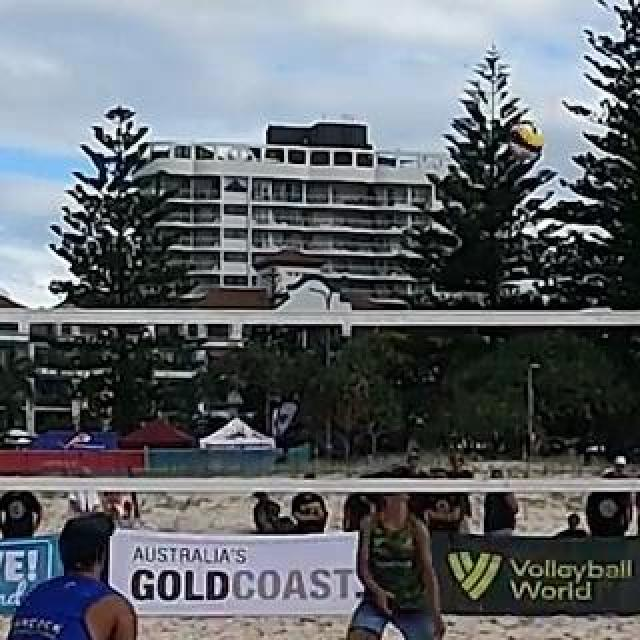volleyball: (510, 124, 542, 156)
